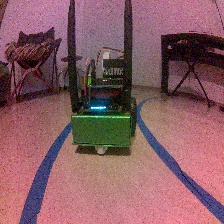rob: (69, 57, 138, 155)
